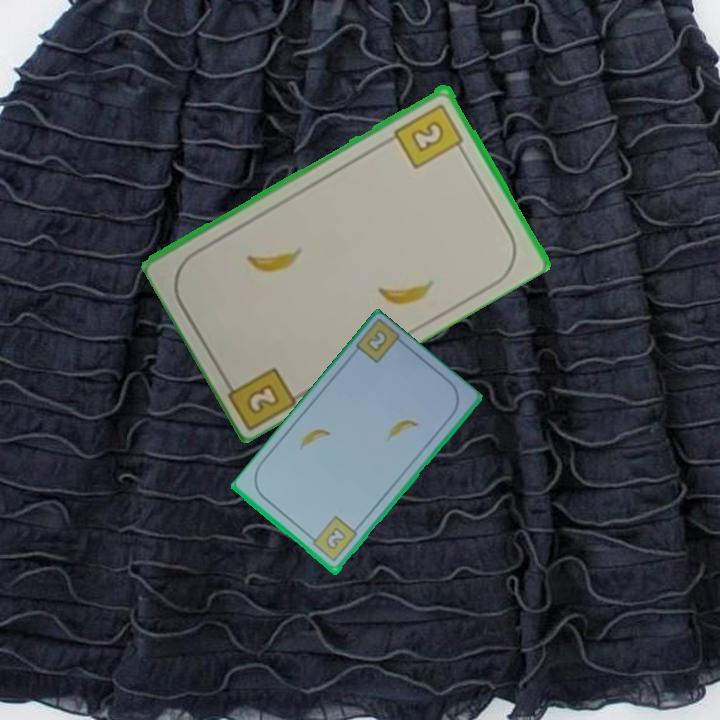2b: (390, 99, 468, 171), (218, 363, 301, 430), (305, 513, 360, 565), (363, 326, 390, 356)
